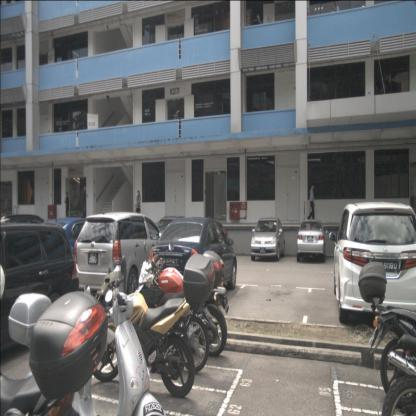human-pedestrian-adult: (306, 182, 316, 222), (334, 2, 340, 35), (64, 192, 70, 221), (136, 190, 141, 221)
vehicle-car: (0, 221, 80, 354), (333, 200, 415, 323), (74, 212, 177, 300), (148, 217, 237, 305), (35, 217, 117, 281), (0, 214, 60, 271), (152, 216, 197, 261), (251, 218, 285, 261), (297, 219, 328, 263)
vehicle-motorcycle: (9, 290, 167, 416), (90, 254, 216, 398), (0, 290, 109, 415), (124, 241, 230, 357), (124, 260, 216, 374), (358, 260, 416, 411), (381, 333, 416, 416)
